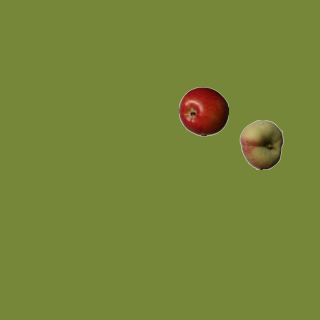Apple Braeburn: (178, 86, 228, 136)
Peach Flat: (236, 119, 286, 169)
